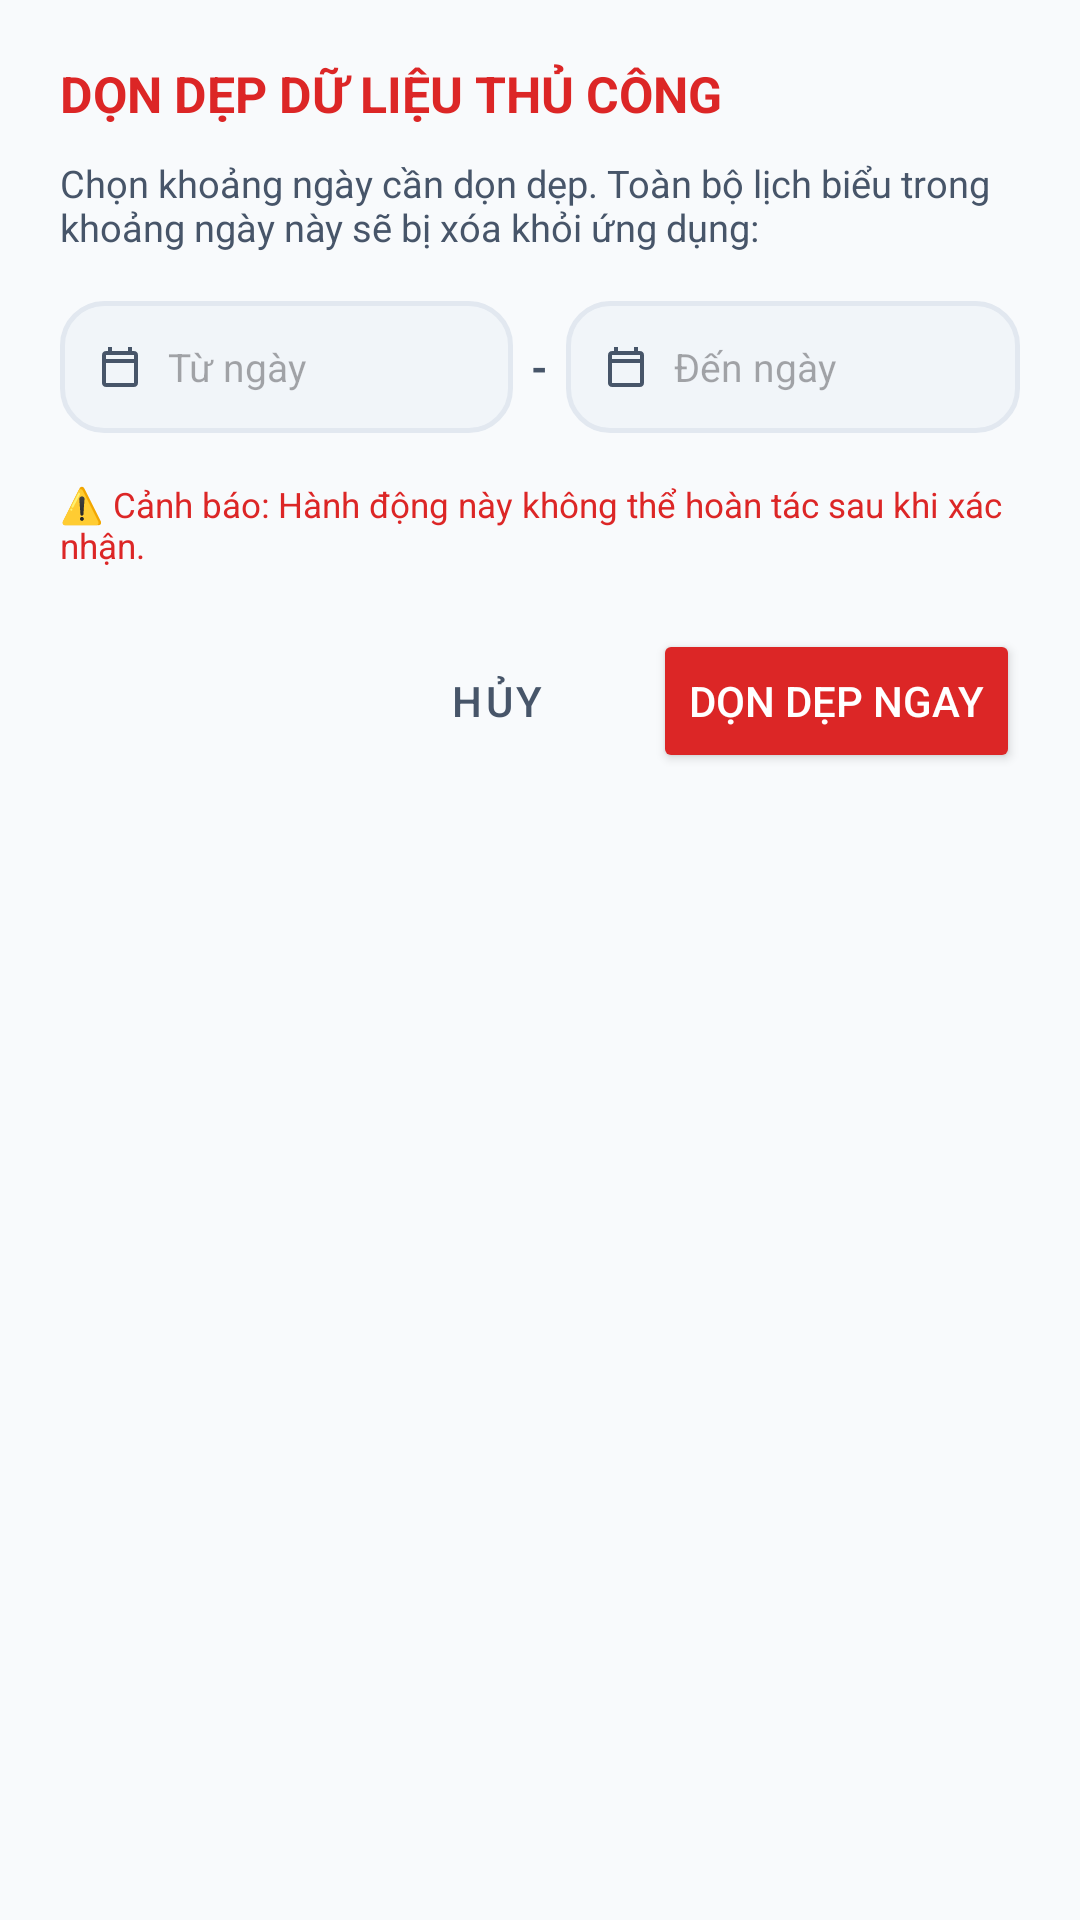

Icons on this 1080 x 1920 Android screen, each with its box as (x1,y1,x2,y2):
calendar: (102,347,138,387), (608,347,644,387)
